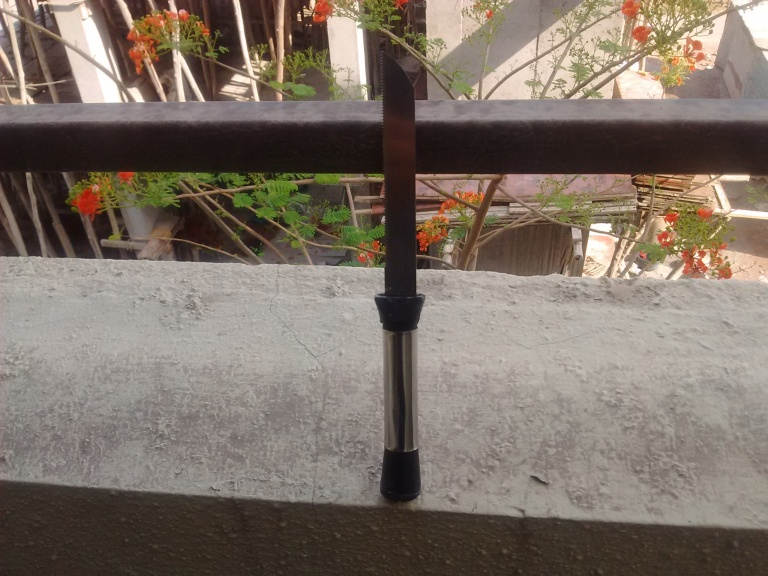knife: (374, 47, 427, 505)
